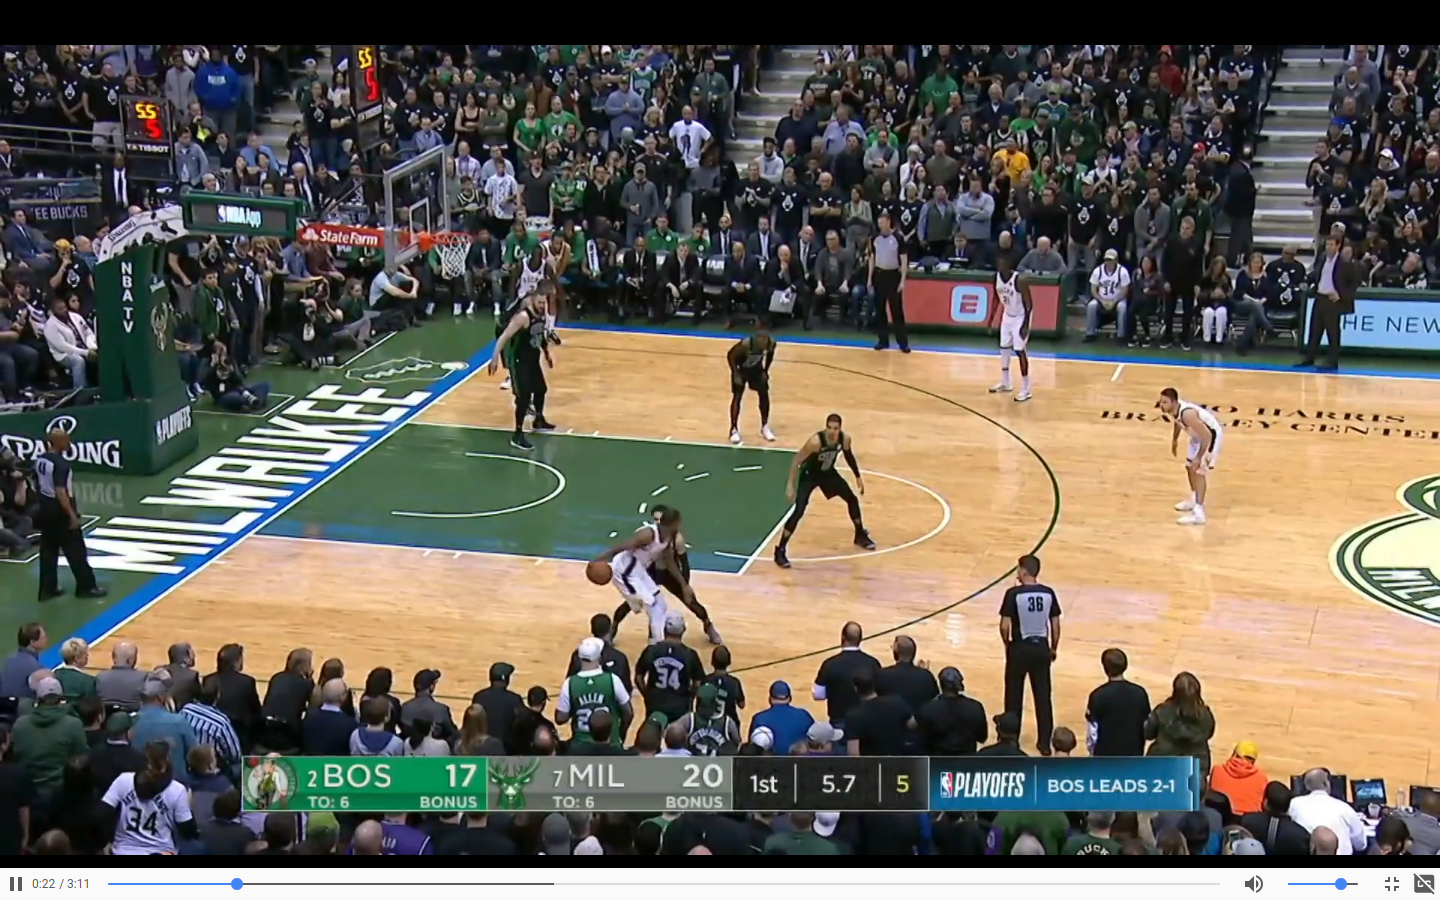basketball: (579, 557, 615, 586)
basketball player: (775, 409, 879, 568), (488, 289, 562, 460), (1155, 386, 1230, 523), (984, 254, 1038, 409), (718, 322, 782, 442), (618, 511, 672, 642)
referee: (22, 420, 110, 608), (992, 545, 1064, 745), (859, 206, 912, 359)
